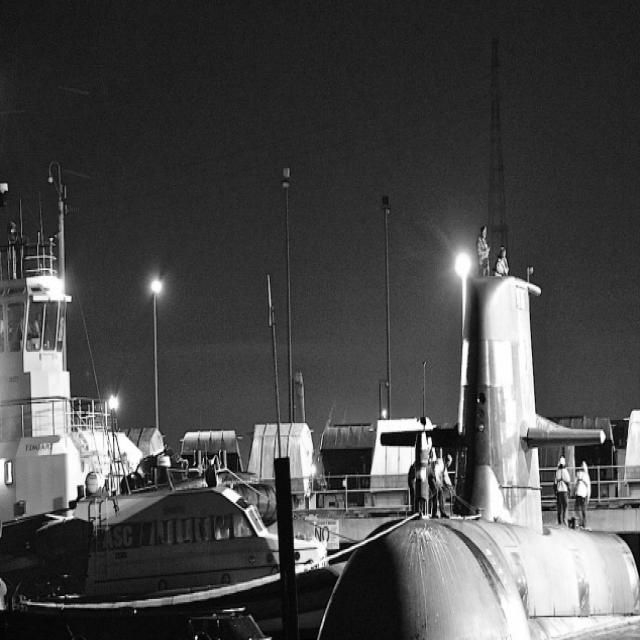submarine: (315, 274, 640, 640)
